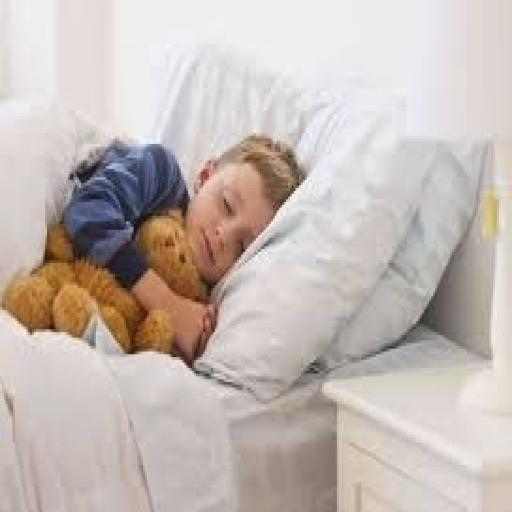sleeping: (55, 127, 305, 360)
